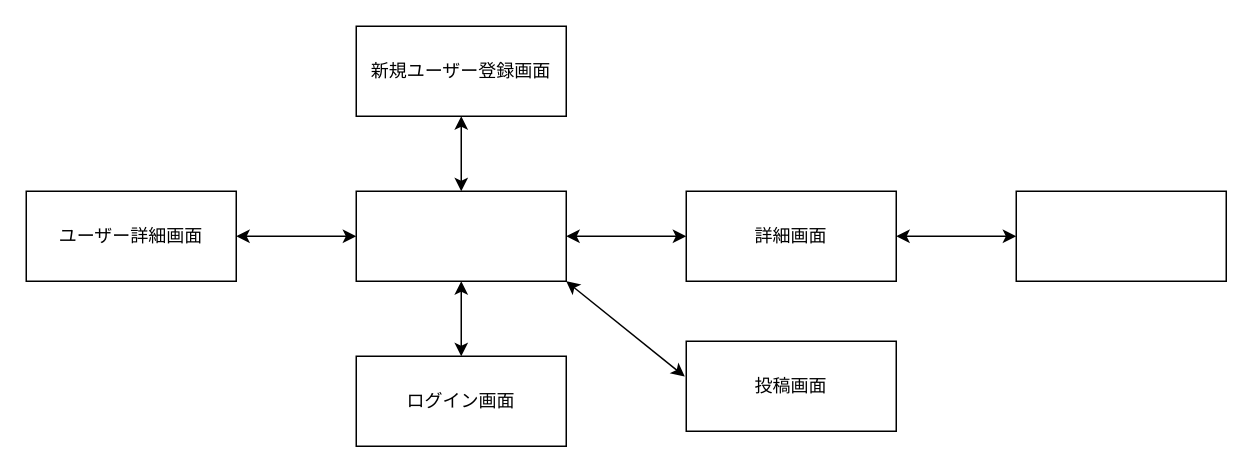
Image size: 1253x473. Some labels were removed from this diagram. The shapes that lost their labels are listed below. From the top down, each one's box as (x1, y1, x2, y2) in pixels, then its label:
(355, 190, 566, 281): トップページ
(1015, 190, 1226, 281): 編集画面
